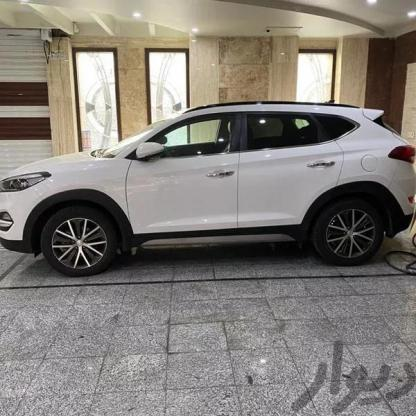Car: (0, 94, 416, 284)
